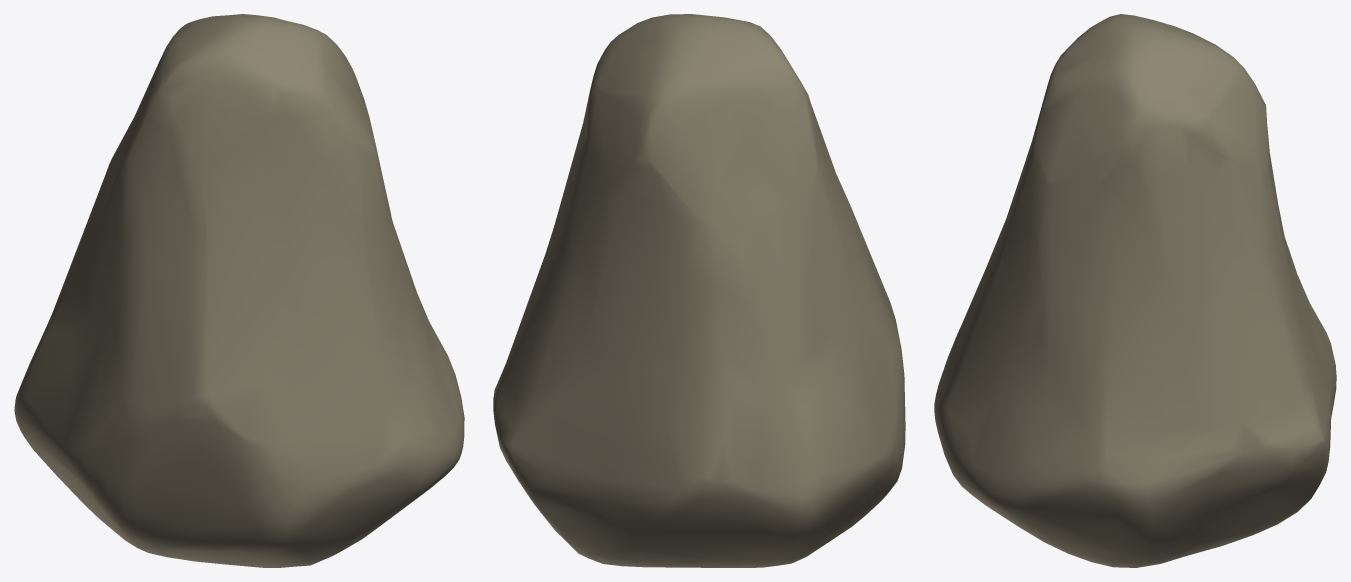
File: rock.glb
The picture shows the model from 3 angles, left to right: view 1: azimuth 30°, elevation 25°; view 2: azimuth 150°, elevation 25°; view 3: azimuth 270°, elevation 25°; orthographic projection. The views are drawn at different scales.
Visible parts, largest first — view 1: Environment_Rock_2; view 2: Environment_Rock_2; view 3: Environment_Rock_2.
Part boxes in pixels (x1,y1,x2,y2): Environment_Rock_2: (14,14,464,567); Environment_Rock_2: (493,14,905,567); Environment_Rock_2: (934,14,1336,567).
Bounding box in the file's own units: 0.7832 × 1.05 × 0.7585.
